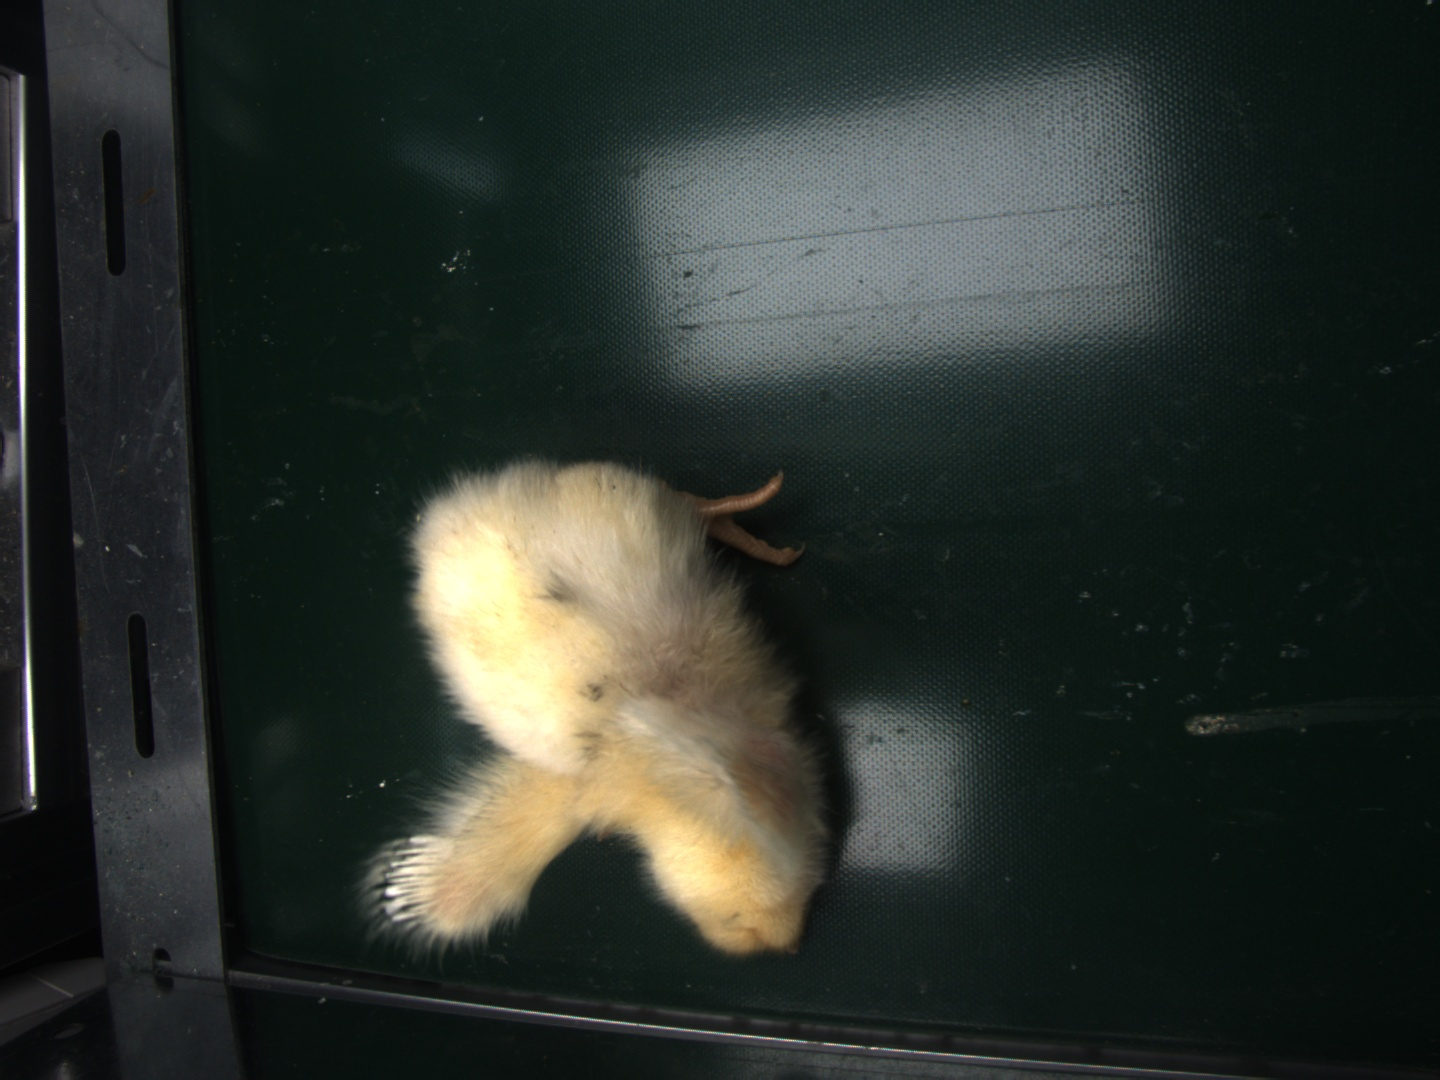male: (387, 839, 440, 925)
